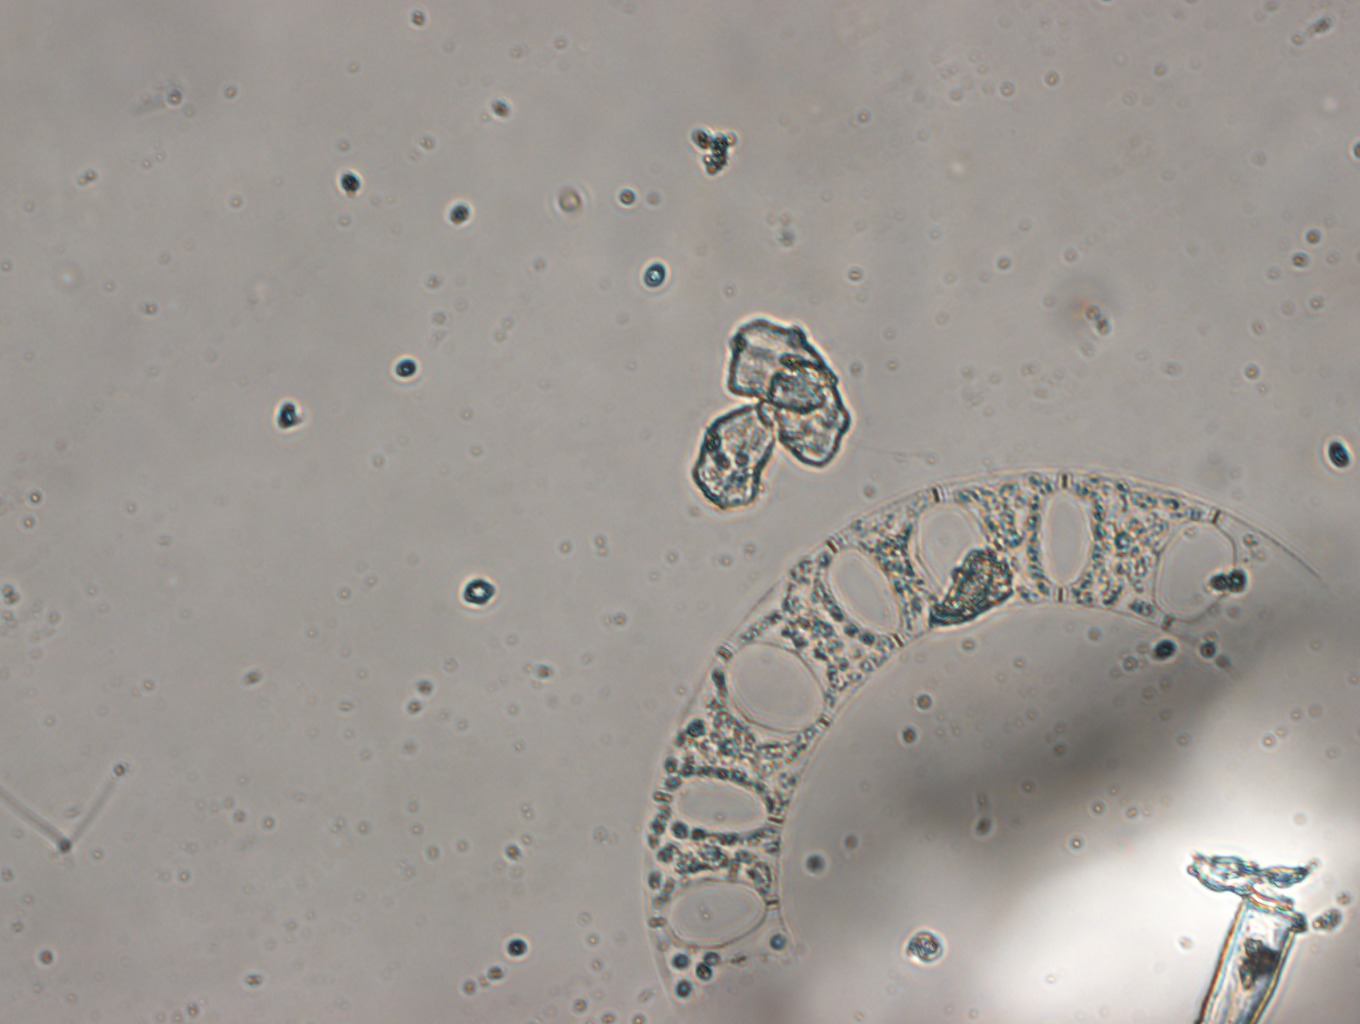eucampia: (643, 473, 1297, 998)
